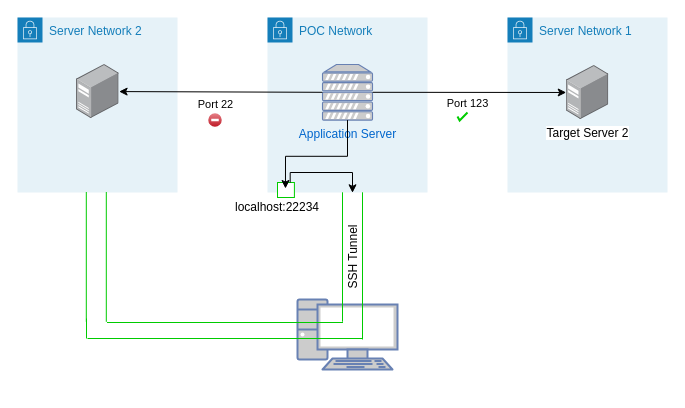
Some shapes in this 685 by 408 pixel diagram are drawn without their labels. The shapes that lost their labels are listed below. From the top down, each one's centre as x and y in pixels, then its label:
the point at 97,91: Target Server 1
the point at 347,334: End User
